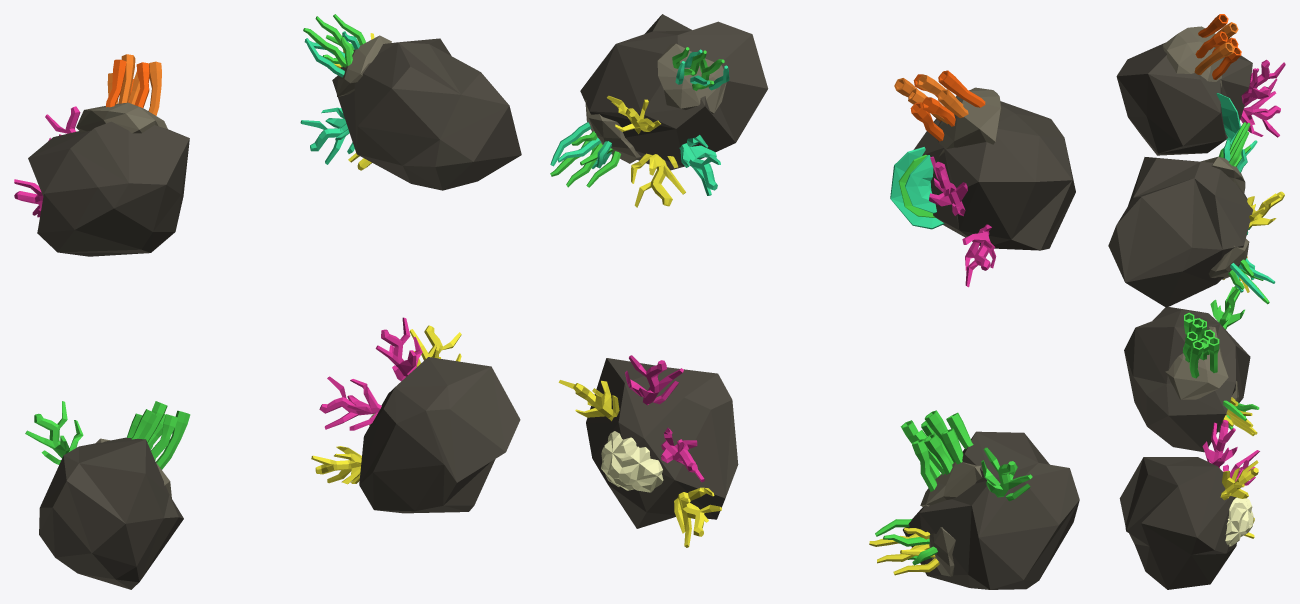
Rendered from FourPieceCoral.FBX.
3 views of the same model, side by side, from view 1: azimuth 30°, elevation 25°; view 2: azimuth 150°, elevation 25°; view 3: azimuth 270°, elevation 25° (orthographic). The views are drawn at different scales.
Parts seen in each view (by area): view 1: FourPieceCoral; view 2: FourPieceCoral; view 3: FourPieceCoral.
Boxes of the visible parts, x1=… form: FourPieceCoral: x1=14, y1=14, x2=521, y2=589; FourPieceCoral: x1=550, y1=14, x2=1079, y2=589; FourPieceCoral: x1=1108, y1=14, x2=1285, y2=589.
Bounding box in the file's own units: 112 × 120 × 43.61.
